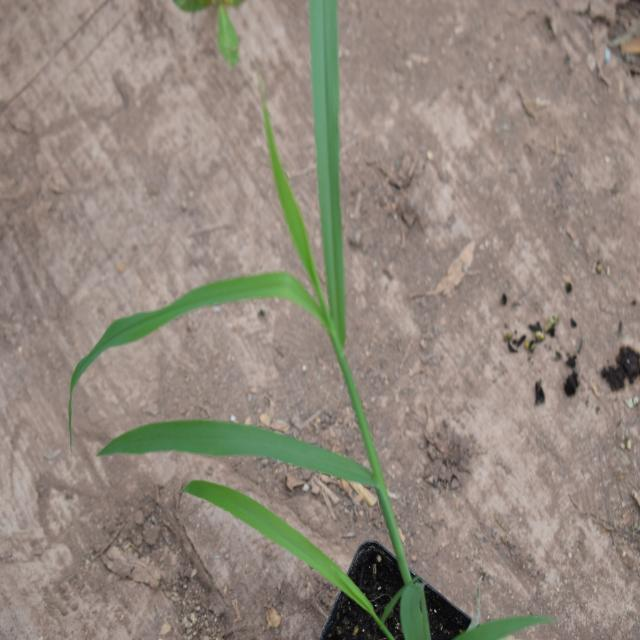crabgrass: (81, 14, 418, 595)
